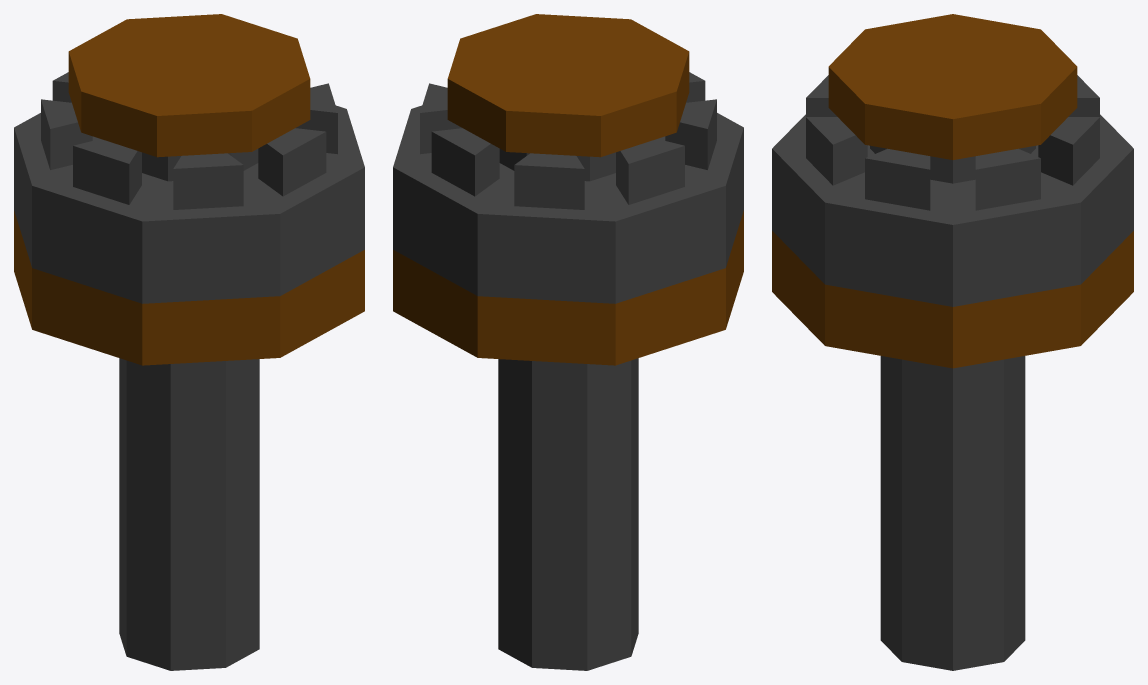
File: sprinkler.fbx
3 views of the same model, side by side, from view 1: azimuth 30°, elevation 25°; view 2: azimuth 150°, elevation 25°; view 3: azimuth 270°, elevation 25° (orthographic).
Parts seen in each view (by area): view 1: Cylinder; view 2: Cylinder; view 3: Cylinder.
Boxes of the visible parts, bbox=[...] form: Cylinder: bbox=[14, 14, 364, 670]; Cylinder: bbox=[393, 14, 743, 670]; Cylinder: bbox=[772, 14, 1133, 670].
Bounding box in the file's own units: 0.1429 × 0.2501 × 0.1429.
